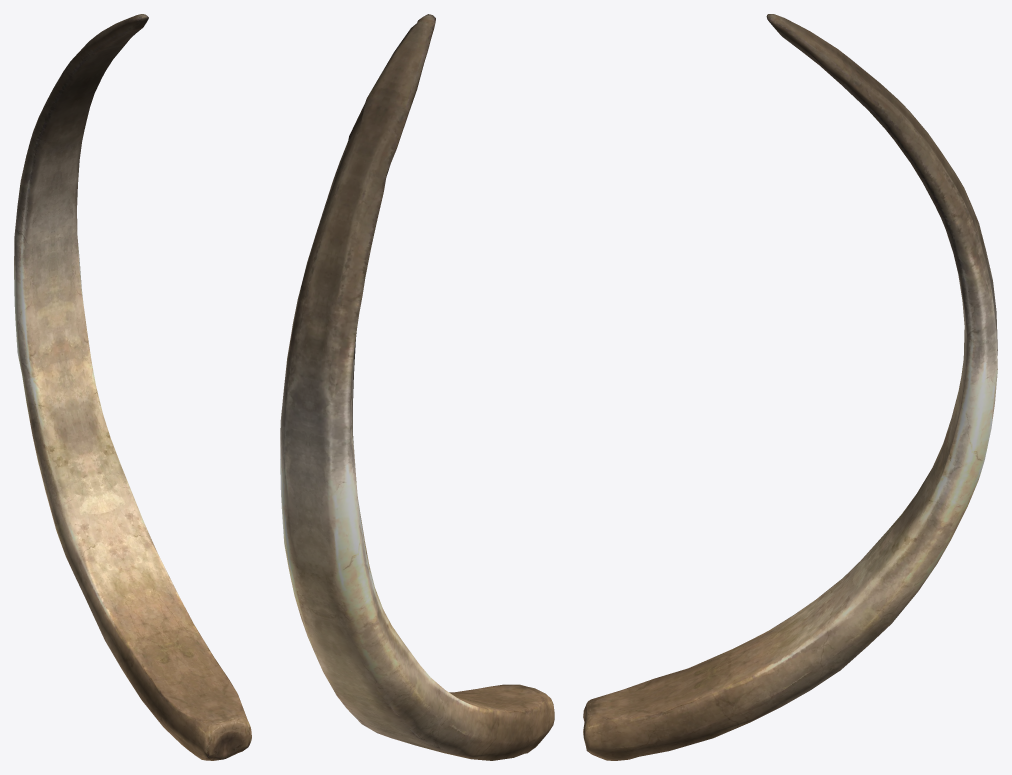
The picture shows the model from 3 angles, left to right: view 1: azimuth 30°, elevation 25°; view 2: azimuth 150°, elevation 25°; view 3: azimuth 270°, elevation 25°; orthographic projection. The views are drawn at different scales.
Visible parts, largest first — view 1: SM_Dragon_Rib_Bones_Single_05_LOD0; view 2: SM_Dragon_Rib_Bones_Single_05_LOD0; view 3: SM_Dragon_Rib_Bones_Single_05_LOD0.
Boxes of the visible parts, x1,y1,x2,y2 form: SM_Dragon_Rib_Bones_Single_05_LOD0: (14, 14, 251, 760); SM_Dragon_Rib_Bones_Single_05_LOD0: (280, 14, 554, 760); SM_Dragon_Rib_Bones_Single_05_LOD0: (583, 14, 997, 760).
Bounding box in the file's own units: 2.33 × 20.03 × 10.17.
Materials: 1 (1 with a texture image).
